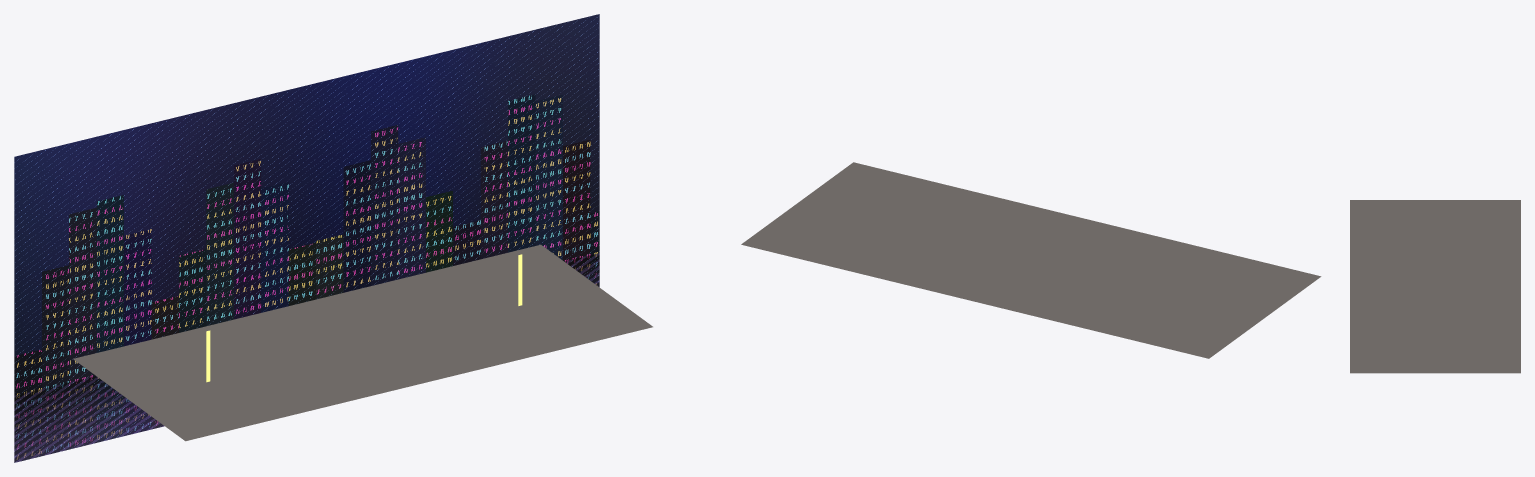
Rendered from stage_metro_rain.glb.
3 views of the same model, side by side, from view 1: azimuth 30°, elevation 25°; view 2: azimuth 150°, elevation 25°; view 3: azimuth 270°, elevation 25° (orthographic). The views are drawn at different scales.
Parts seen in each view (by area): view 1: FOF_StageBackdrop, FOF_FightingFloor; view 2: FOF_FightingFloor; view 3: FOF_FightingFloor.
Part boxes in pixels (x1=…): FOF_StageBackdrop: x1=14, y1=14, x2=599, y2=462; FOF_FightingFloor: x1=73, y1=244, x2=652, y2=441; FOF_FightingFloor: x1=741, y1=162, x2=1321, y2=358; FOF_FightingFloor: x1=1350, y1=200, x2=1520, y2=373.
Size of the model in its own units: 60 by 30 by 20.
3 materials, 1 textured.
